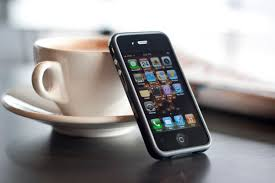iphone: (108, 27, 213, 161)
iphone4: (110, 26, 215, 160)
